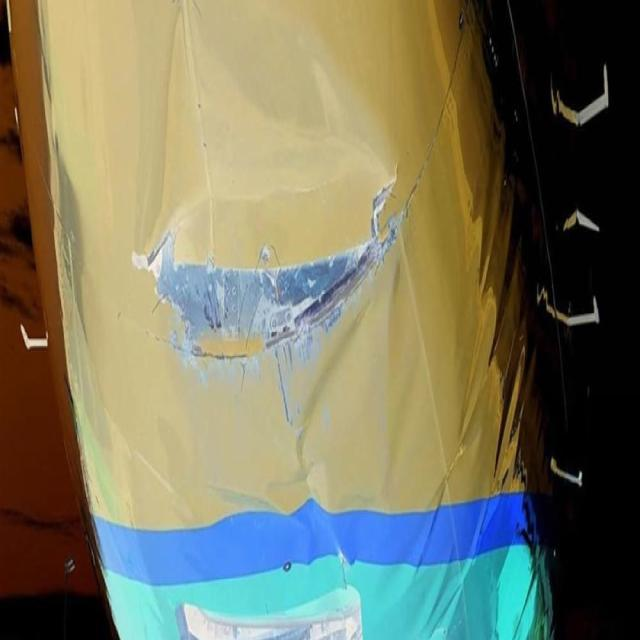crack: (141, 162, 402, 386)
